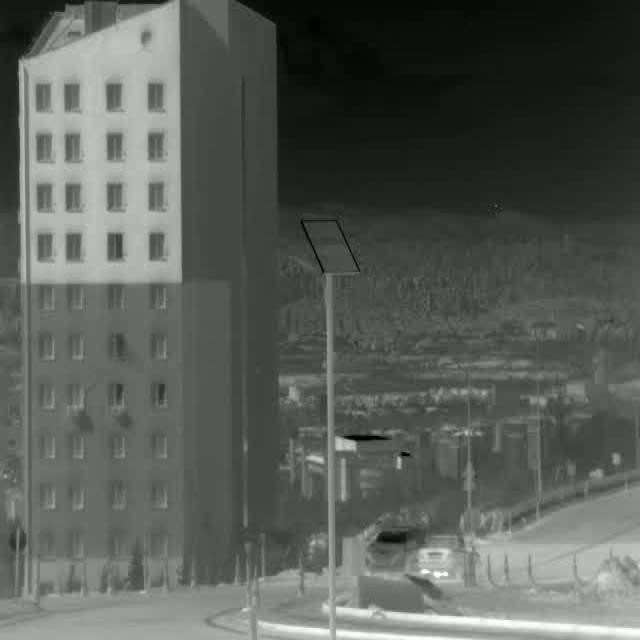Car: (363, 524, 417, 572), (418, 535, 476, 577)
